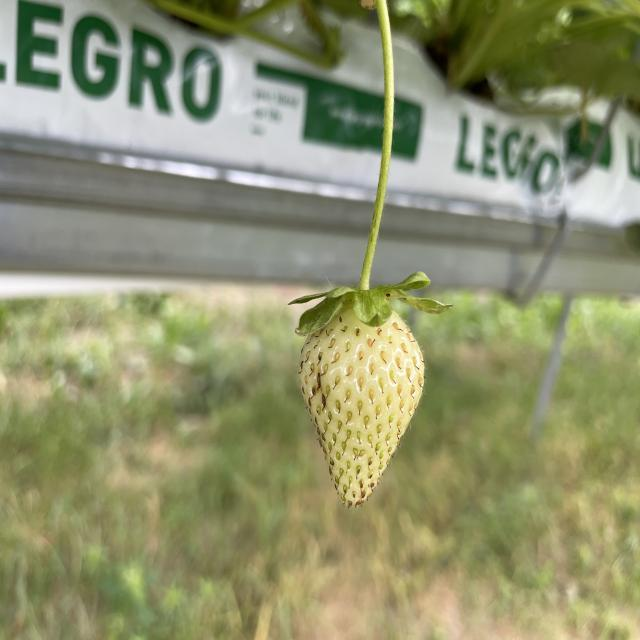stem: (291, 0, 449, 334)
strawberryNR: (299, 309, 424, 506)
